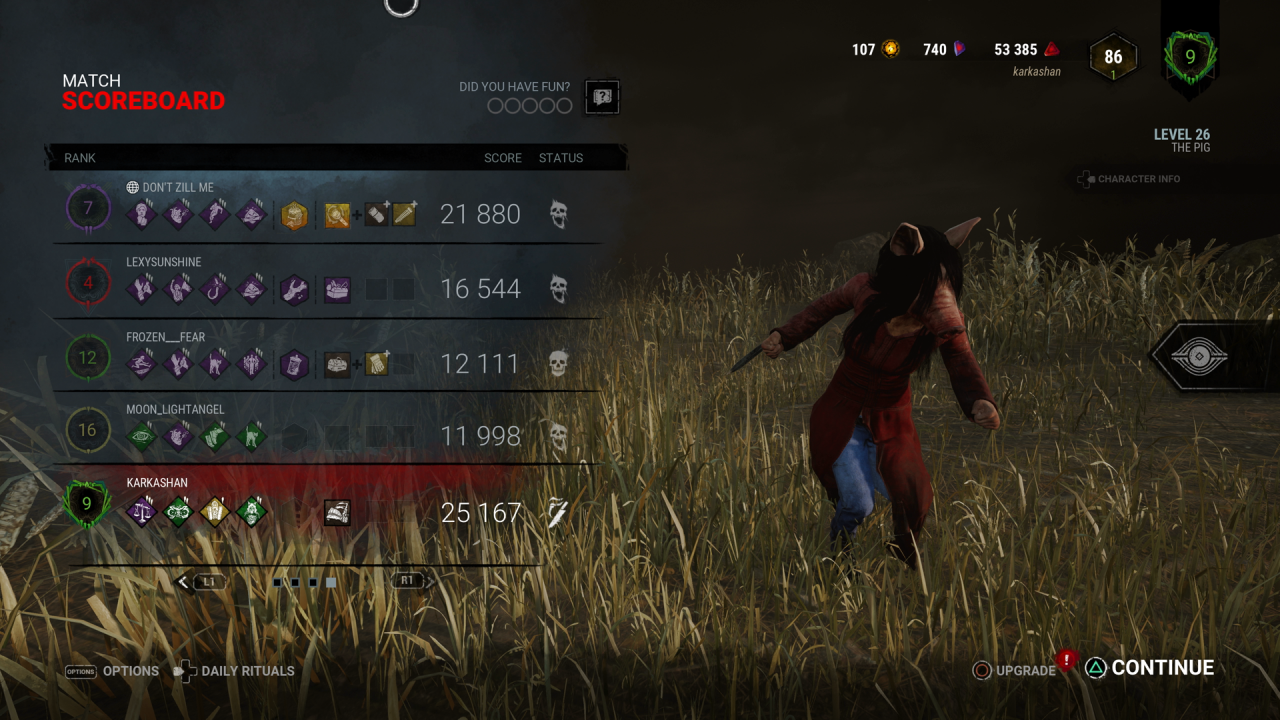adrenaline: (162, 198, 196, 233), (162, 420, 196, 455)
dead_hard: (199, 198, 233, 233)
deja_vu: (124, 420, 158, 455)
for_the_people: (162, 271, 196, 306)
iron_maiden: (198, 495, 232, 530)
iron_will: (236, 197, 270, 232), (236, 272, 270, 307)
lightborn: (161, 494, 195, 529)
lithe: (124, 347, 158, 382)
make_your_choice: (123, 494, 157, 529)
prove_thyself: (236, 347, 270, 382)
resilience: (124, 198, 158, 233)
saboteur: (199, 272, 233, 307)
self_care: (124, 271, 158, 306), (162, 347, 196, 382)
spine_chill: (199, 347, 233, 382), (236, 420, 270, 455)
sprint_burst: (199, 420, 233, 455)
surveillance: (236, 494, 270, 529)
